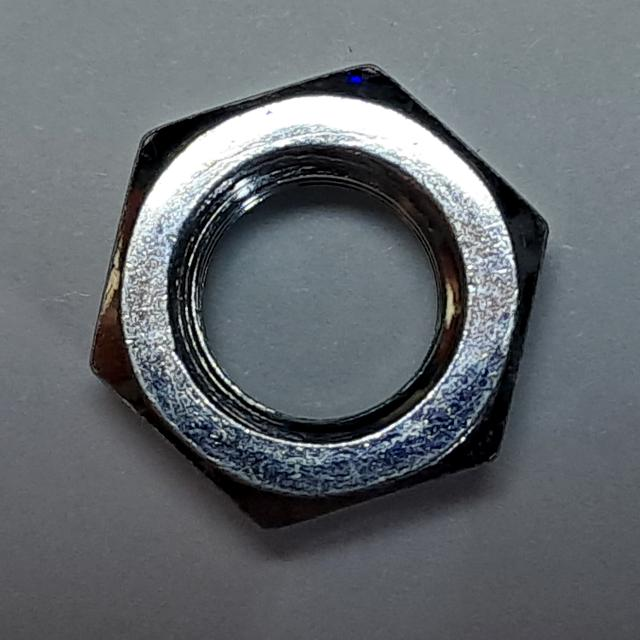Excellent: (66, 42, 564, 545)
